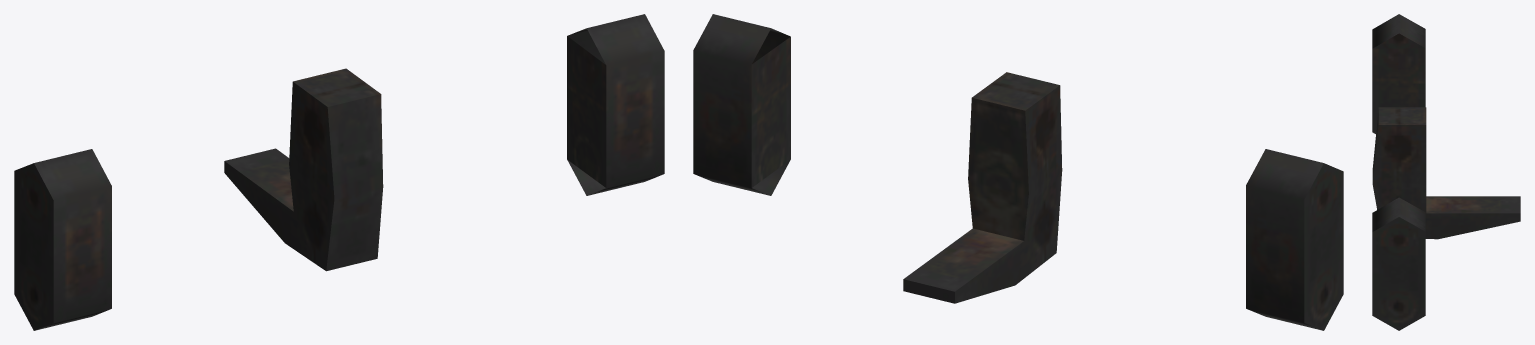
The picture shows the model from 3 angles, left to right: view 1: azimuth 30°, elevation 25°; view 2: azimuth 150°, elevation 25°; view 3: azimuth 270°, elevation 25°; orthographic projection. The views are drawn at different scales.
Parts seen in each view (by area): view 1: set_0_group_0; view 2: set_0_group_0; view 3: set_0_group_0.
Part boxes in pixels (left/top/right/bottom): set_0_group_0: left=14, top=14, right=664, bottom=330; set_0_group_0: left=693, top=14, right=1343, bottom=330; set_0_group_0: left=1372, top=14, right=1520, bottom=330.
Size of the model in its own units: 0.533 by 0.1413 by 0.1646.
1 material, 1 textured.
